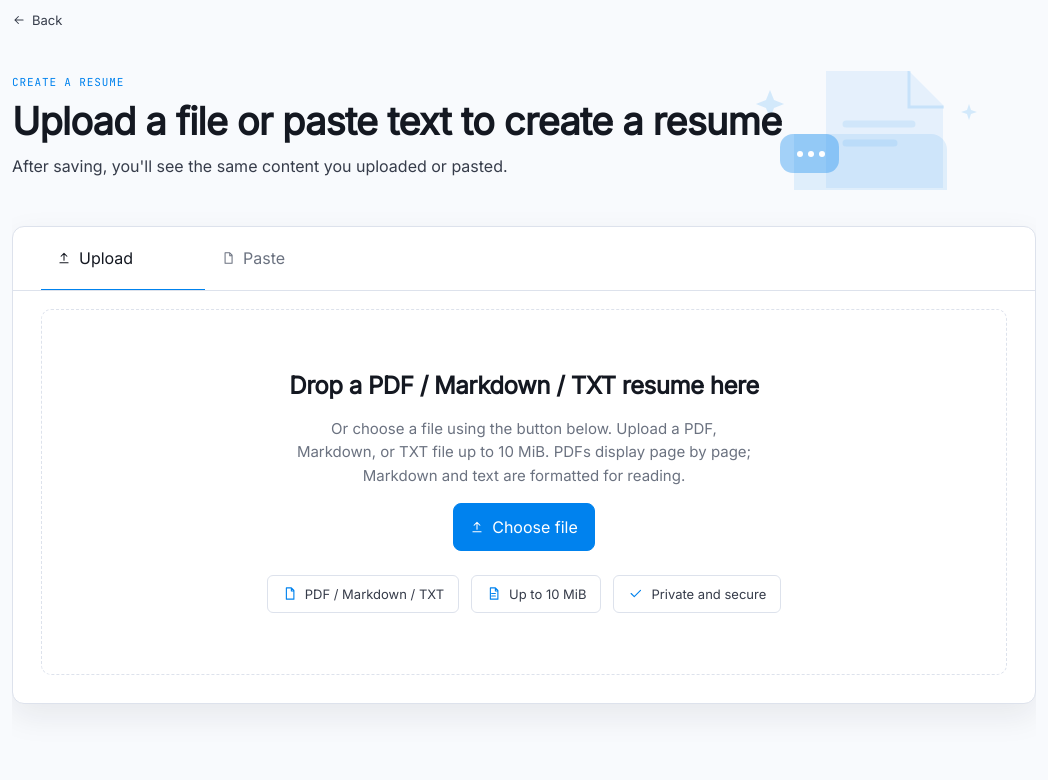
ResumeCreateFlow container › switches to the paste tab when the user clicks it
Click the tab with test id "resume-create-tab-paste" at (287, 259), box 205,227 -> 369,291
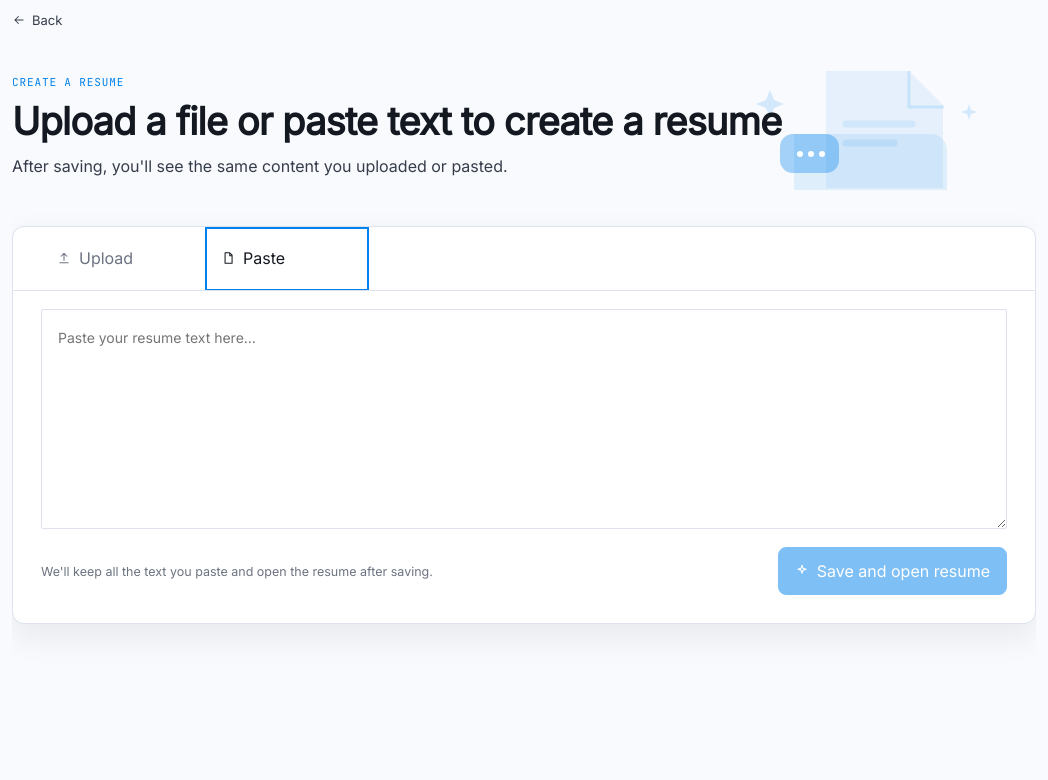
Expected: the element with test id "resume-create-paste-panel" is shown, 41,309 -> 1007,595
Expected: the element with test id "resume-create-upload-panel" is gone
